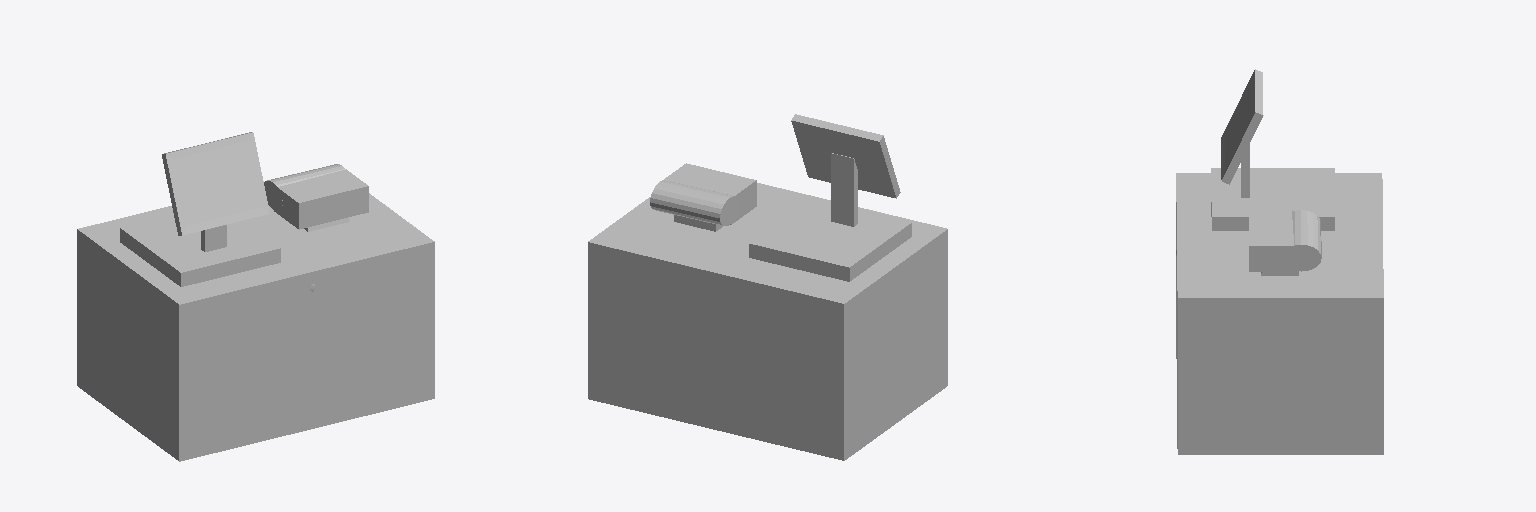
The model's file is cashiertable.obj.
3 views of the same model, side by side, from view 1: azimuth 30°, elevation 25°; view 2: azimuth 150°, elevation 25°; view 3: azimuth 270°, elevation 25° (orthographic).
Visible parts, largest first — view 1: cashiertable2:pCube5; view 2: cashiertable2:pCube5; view 3: cashiertable2:pCube5.
Boxes of the visible parts, x1=… form: cashiertable2:pCube5: x1=77, y1=132, x2=434, y2=461; cashiertable2:pCube5: x1=588, y1=114, x2=947, y2=460; cashiertable2:pCube5: x1=1176, y1=69, x2=1383, y2=454.
Size of the model in its own units: 6.08 by 6.18 by 4.26.